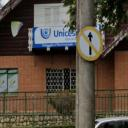NoSeguir: (76, 26, 104, 62)
